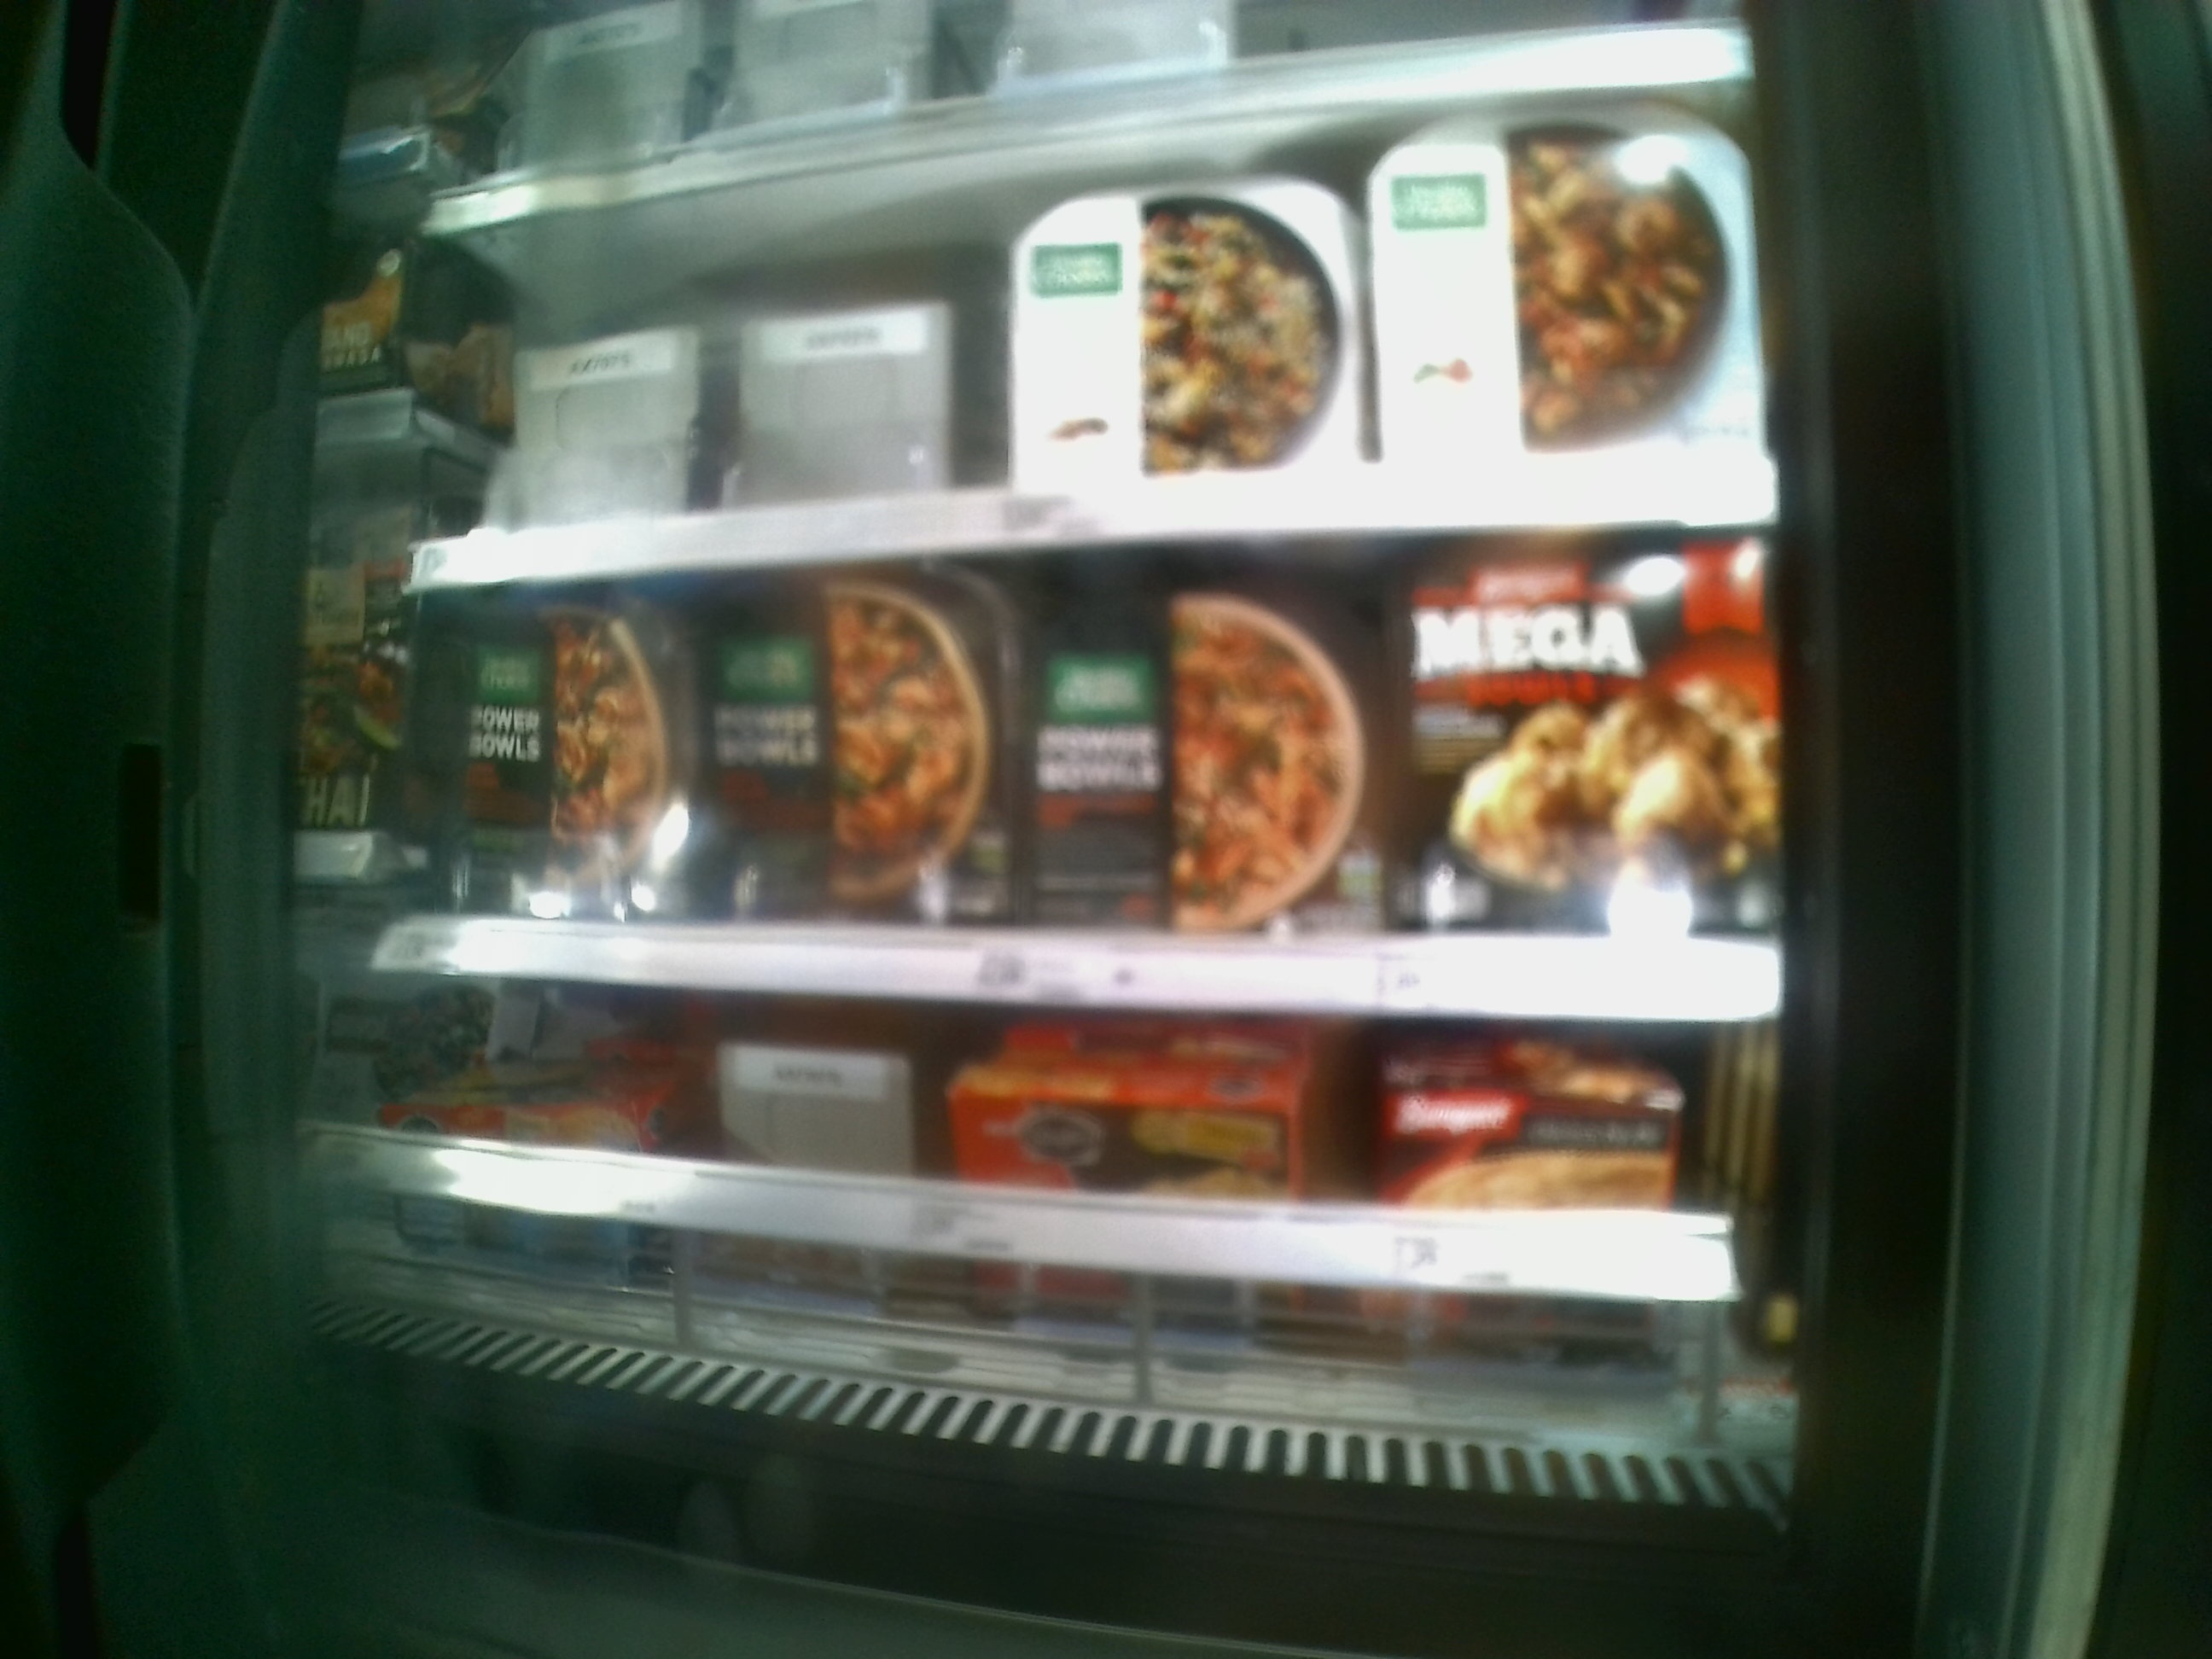shelf: (343, 972, 1780, 1502), (406, 528, 1794, 1025)
